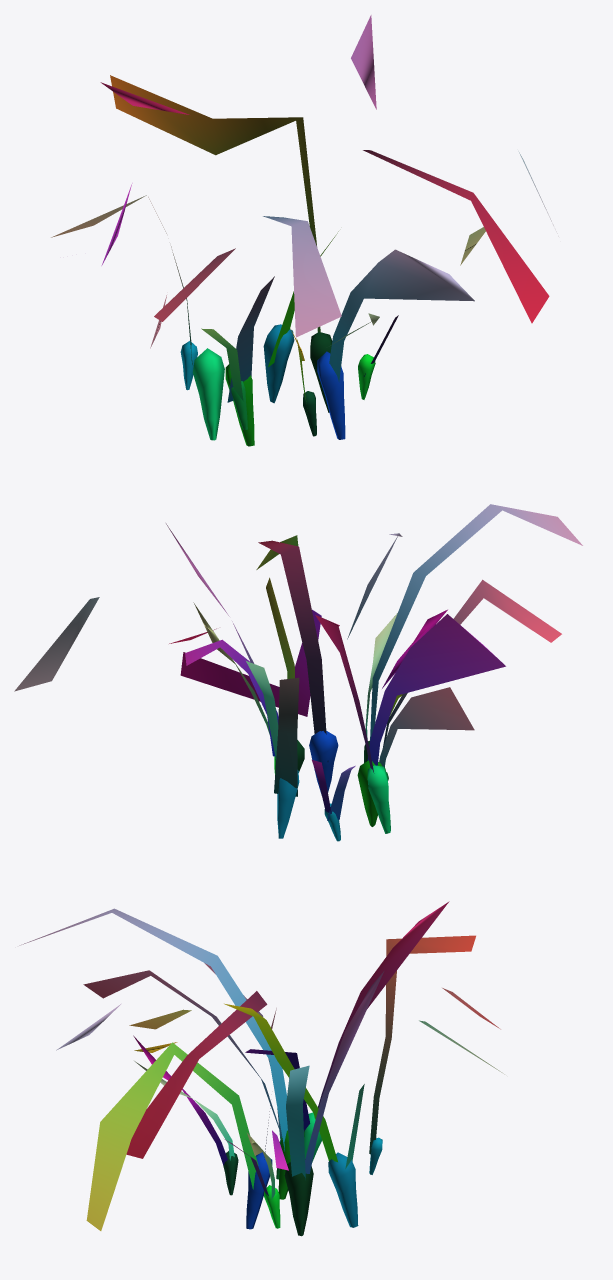
Rendered from Ribbon_Grass_tbdpec3r_High_tbdpec3r_VarF_LOD1.glb.
3 views of the same model, one above another, from view 1: azimuth 30°, elevation 25°; view 2: azimuth 150°, elevation 25°; view 3: azimuth 270°, elevation 25° (orthographic). The views are drawn at different scales.
Visible parts, largest first — view 1: _d06e_VarF_LOD2; view 2: _d06e_VarF_LOD2; view 3: _d06e_VarF_LOD2.
Boxes of the visible parts, x1=… form: _d06e_VarF_LOD2: x1=51, y1=15, x2=558, y2=446; _d06e_VarF_LOD2: x1=14, y1=504, x2=582, y2=841; _d06e_VarF_LOD2: x1=19, y1=901, x2=504, y2=1236.
Bounding box in the file's own units: 0.3148 × 0.1949 × 0.3363.
